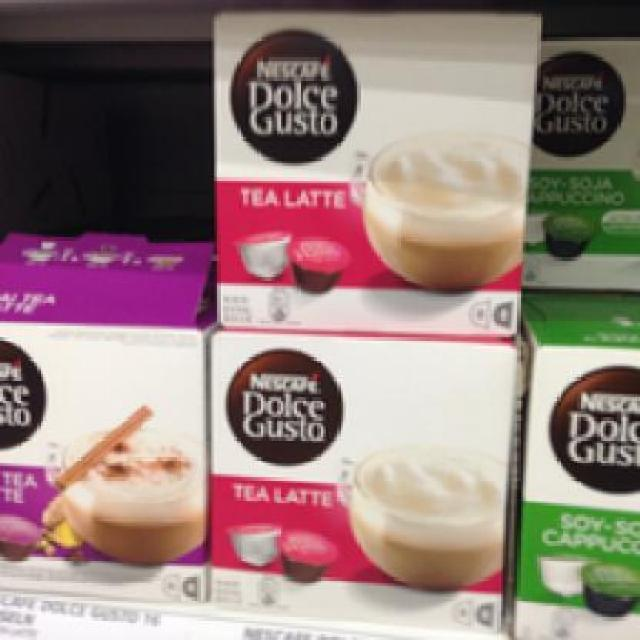Coffee: (203, 3, 540, 334), (203, 323, 520, 637), (0, 228, 209, 602)
